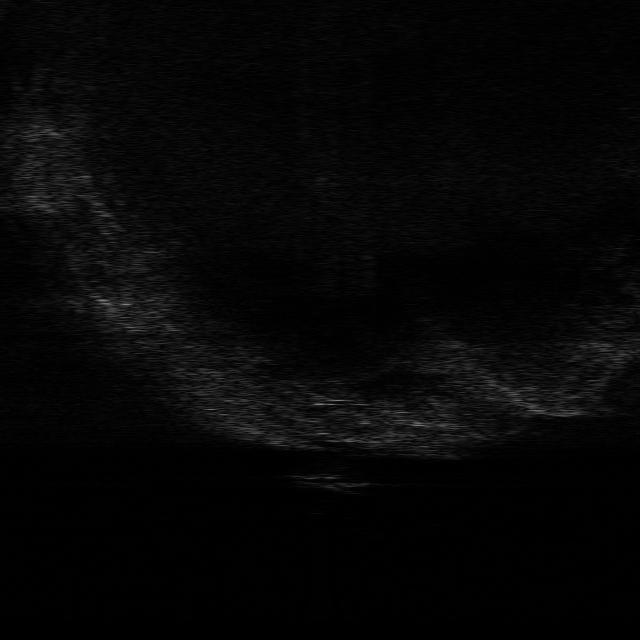plane: (282, 470, 378, 495)
